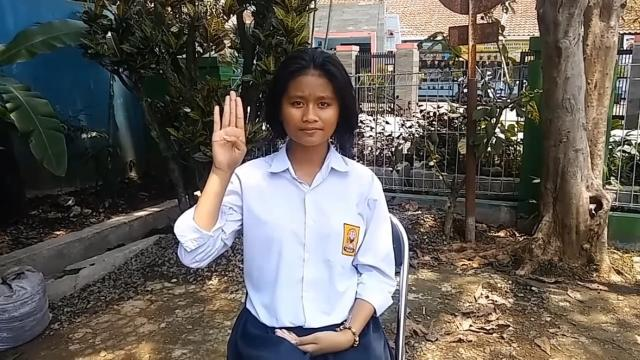B: (210, 90, 248, 170)
